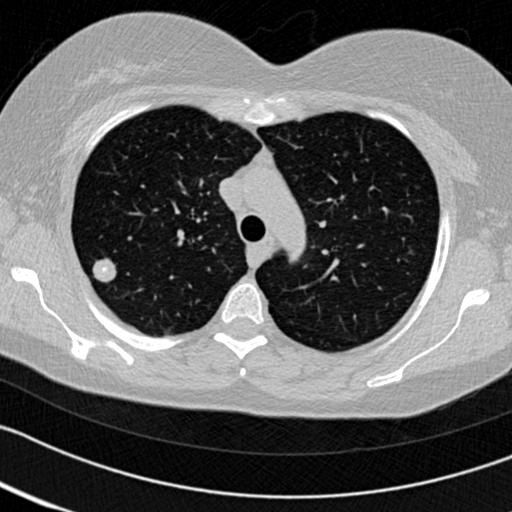nodule: (89, 256, 118, 285)
